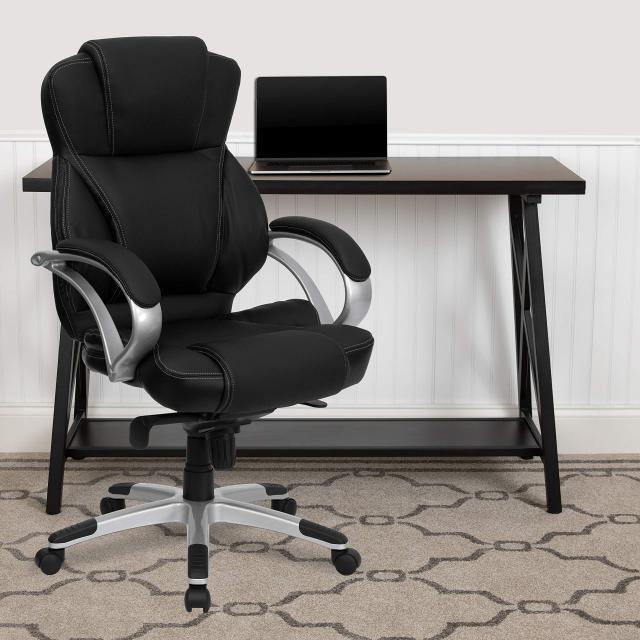chair: (19, 13, 378, 640)
